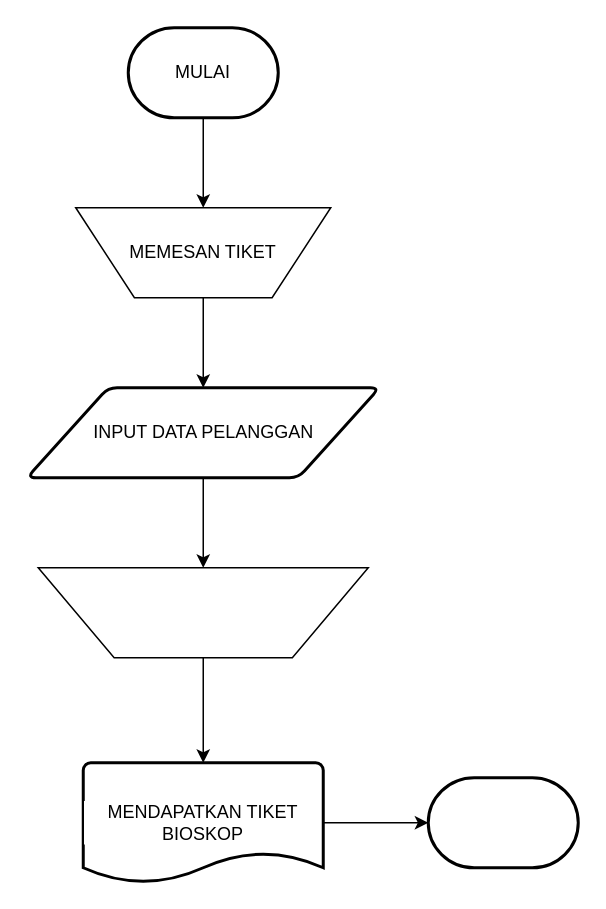
Some shapes in this 606 by 909 pixel diagram are drawn without their labels. Each missing label, with the centre of its shape:
PROSES PEMBAYARAN: the point at 202,612
SELESAI: the point at 502,822
